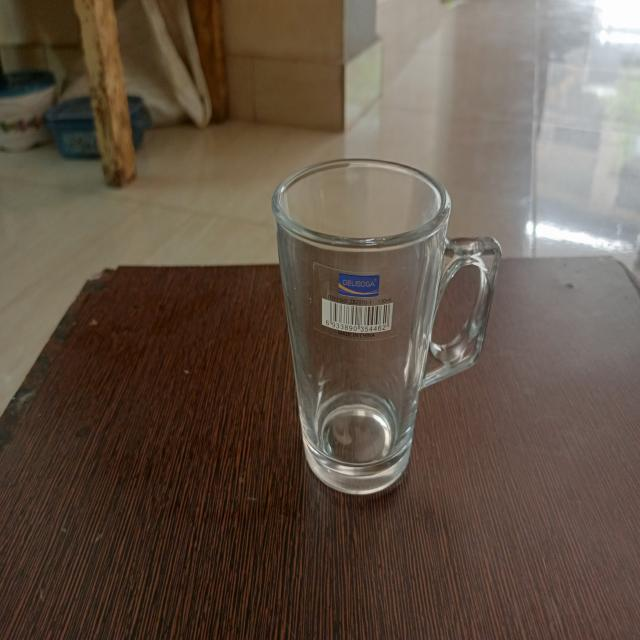glass-VX4N: (272, 155, 502, 492)
